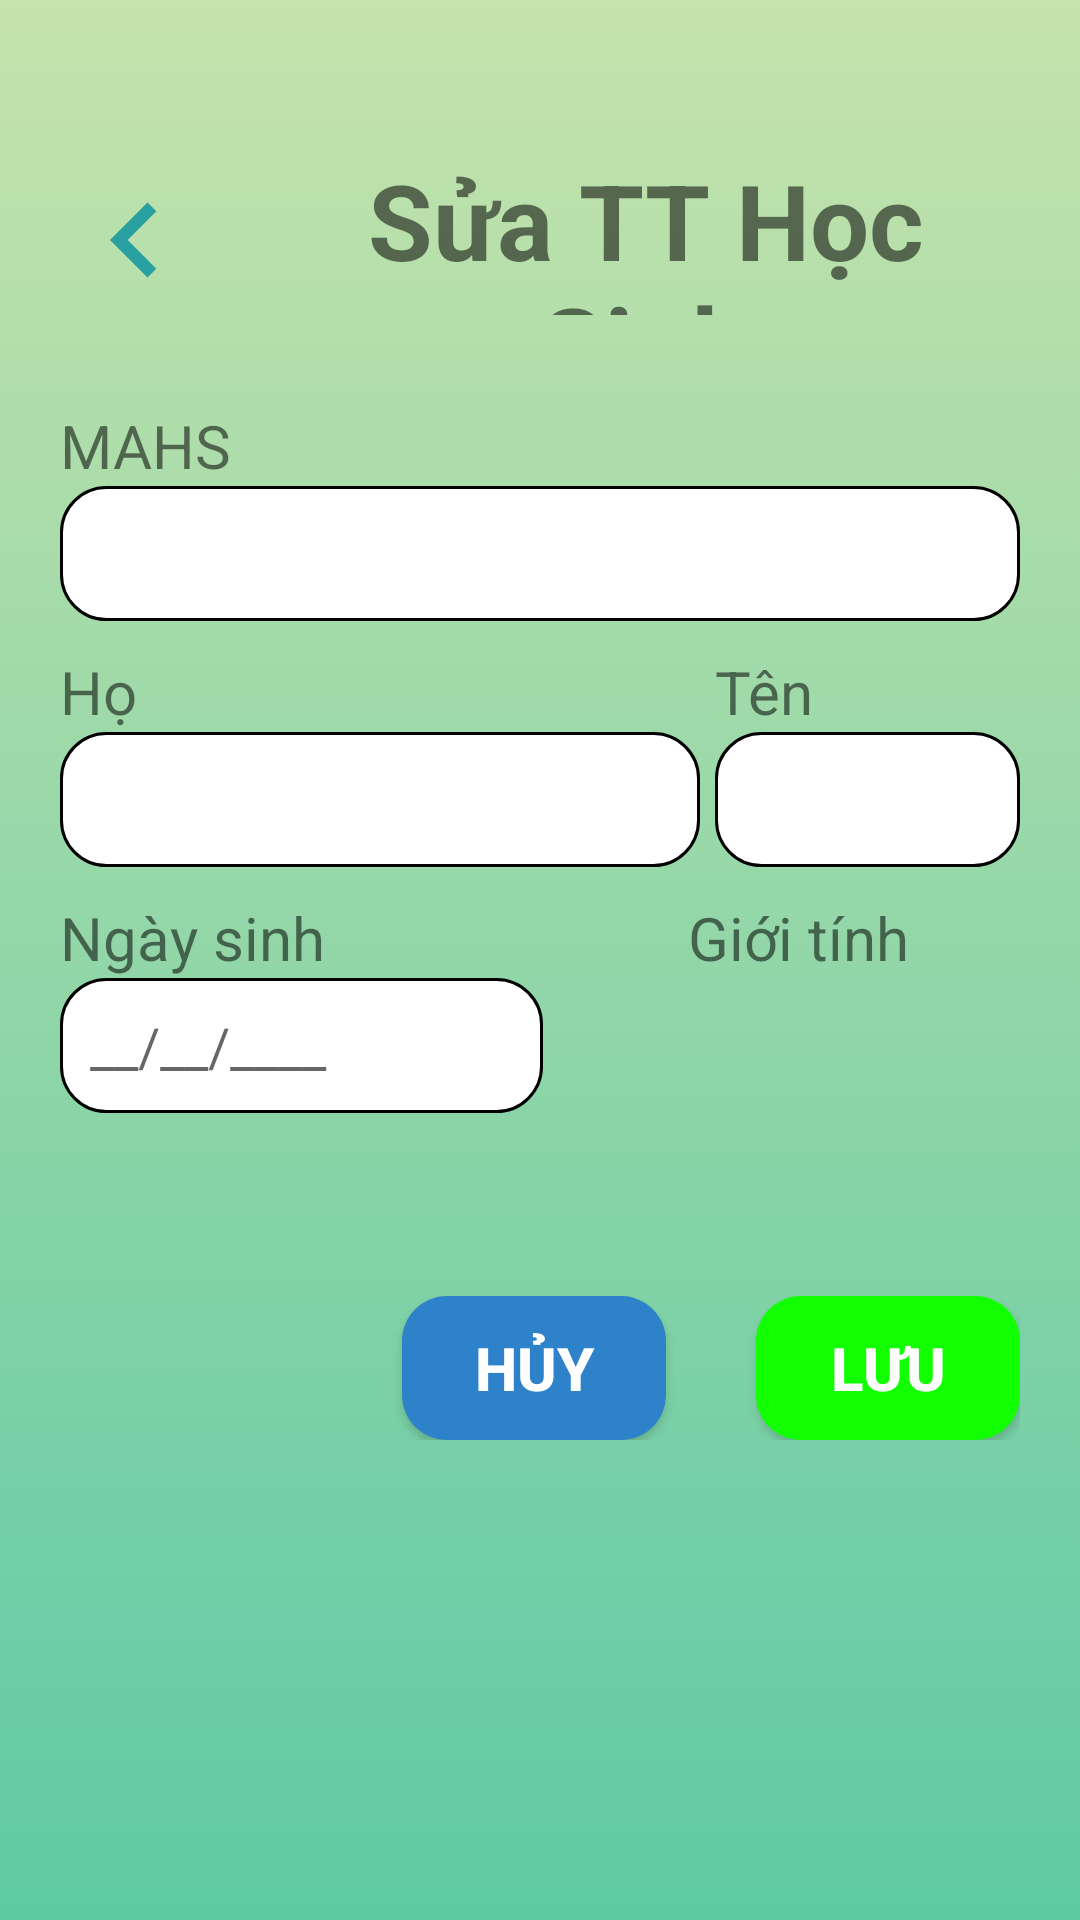

Screen size 1080px x 1920px. Icon name, then its box in pixels as (x1, y1, x2, y2):
turnback: (110, 202, 156, 278)
